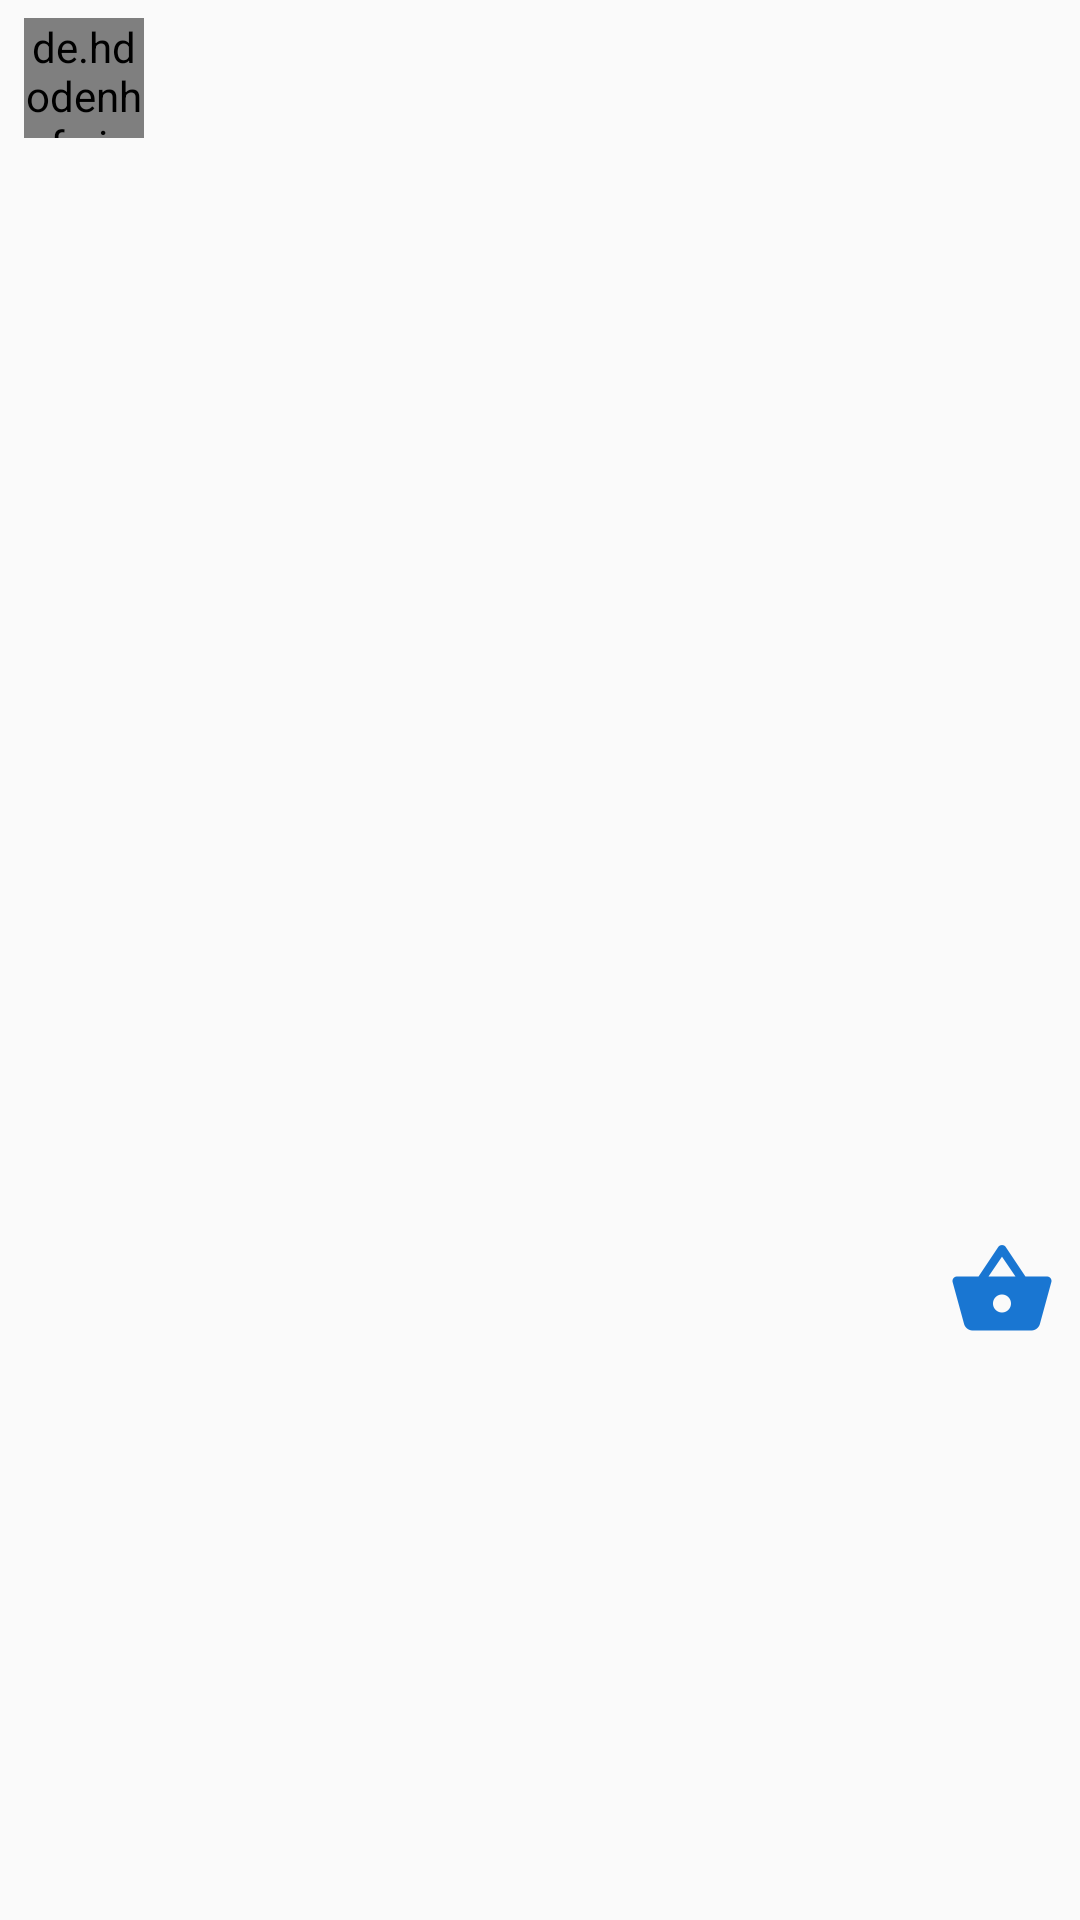

Icons on this 1080 × 1920 Android screen, each with the point to tap as (x=x, y=y):
Buy: (x=1002, y=1288)
